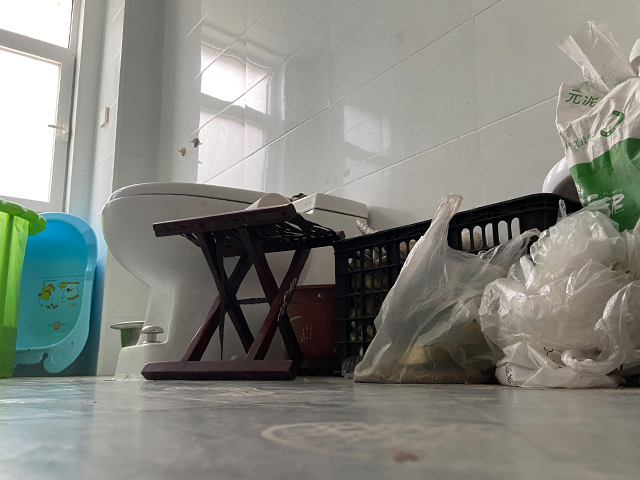closestool: (100, 182, 372, 379)
stool: (139, 202, 346, 382)
